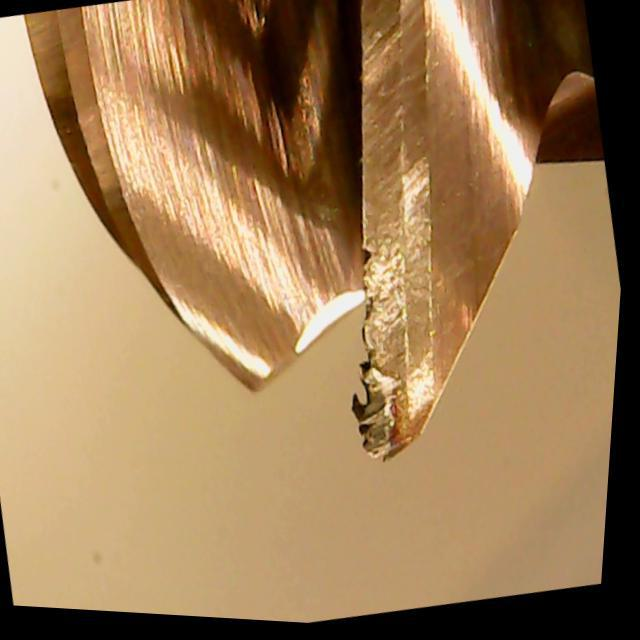Tool-wear-class-1: (310, 168, 481, 479)
